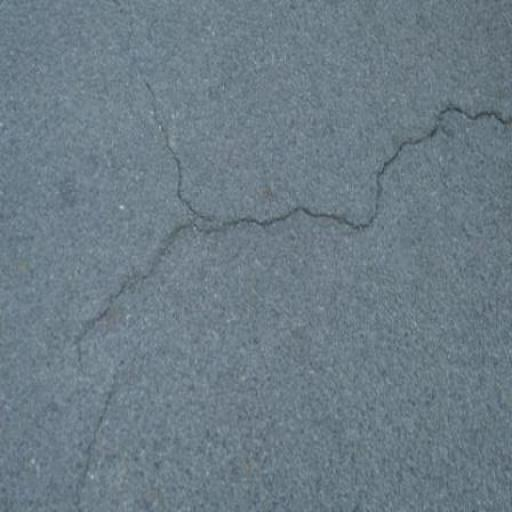spalling: (60, 87, 506, 498), (135, 81, 219, 230)
